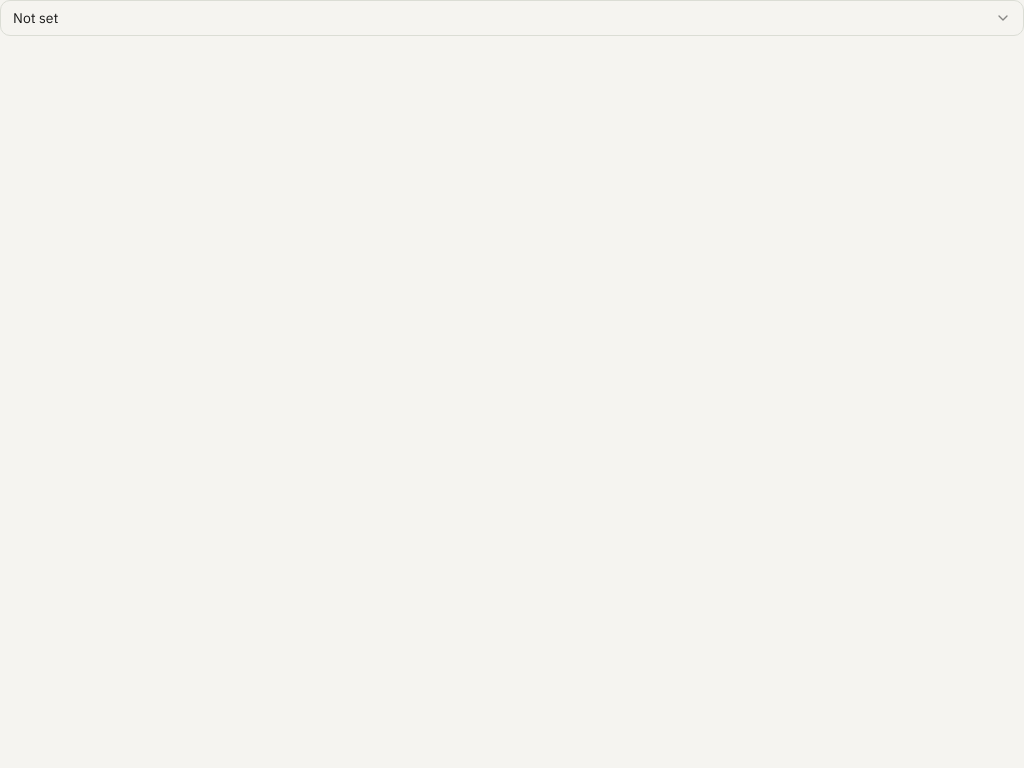
it: UomSelect inline UOM creation › keeps the form open with a visible error when creation fails
The width and height of the screenshot is (1024, 768).
Press ArrowDown in the dropdown, box [0,0,1023,36]
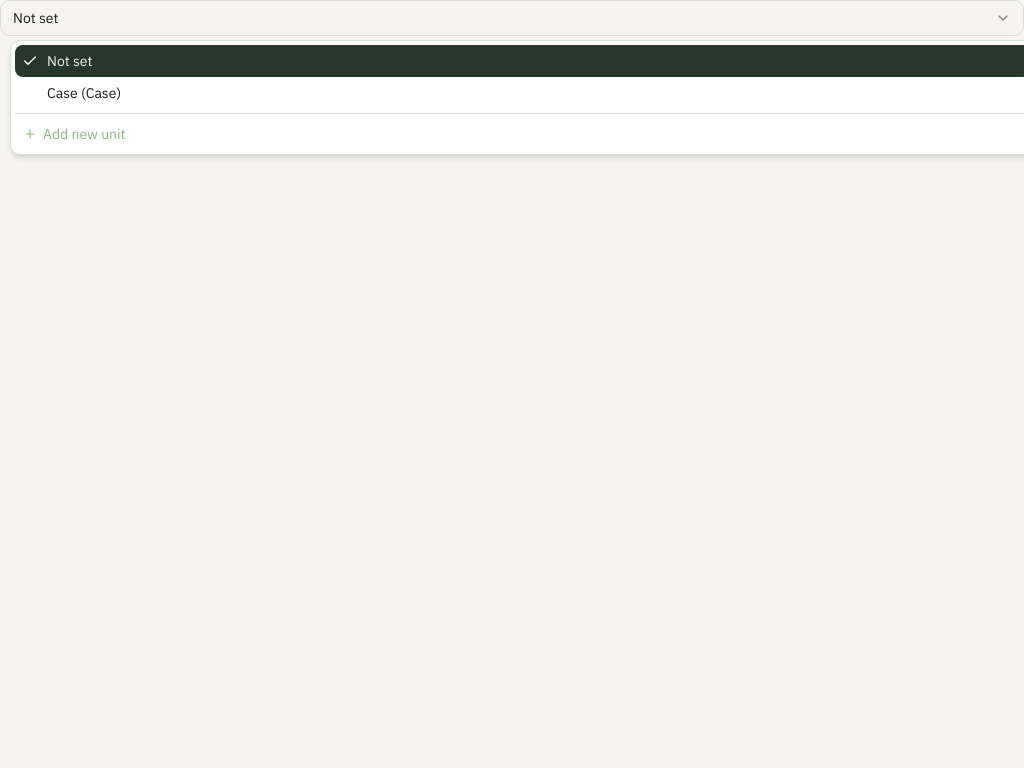
Click the button with test id "uom-add-new-purchase" at (84, 134), box [15,118,1023,150]
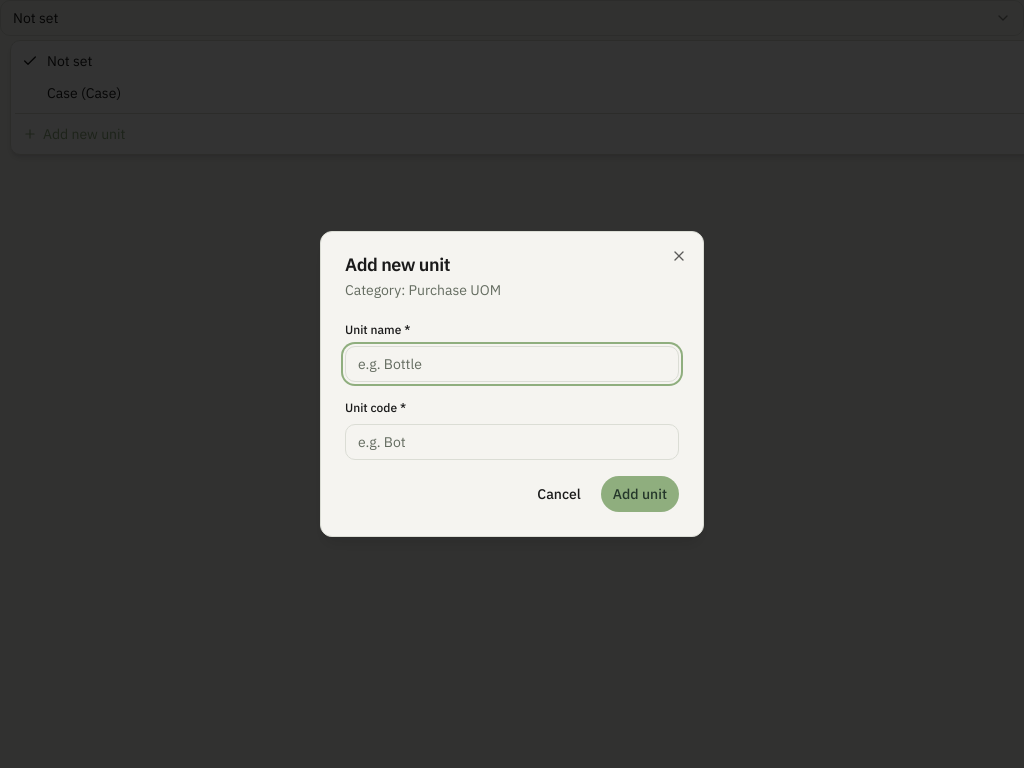
Type "Kilogram" into the field labelled "Unit name *" at (512, 364), box [345,346,679,382]
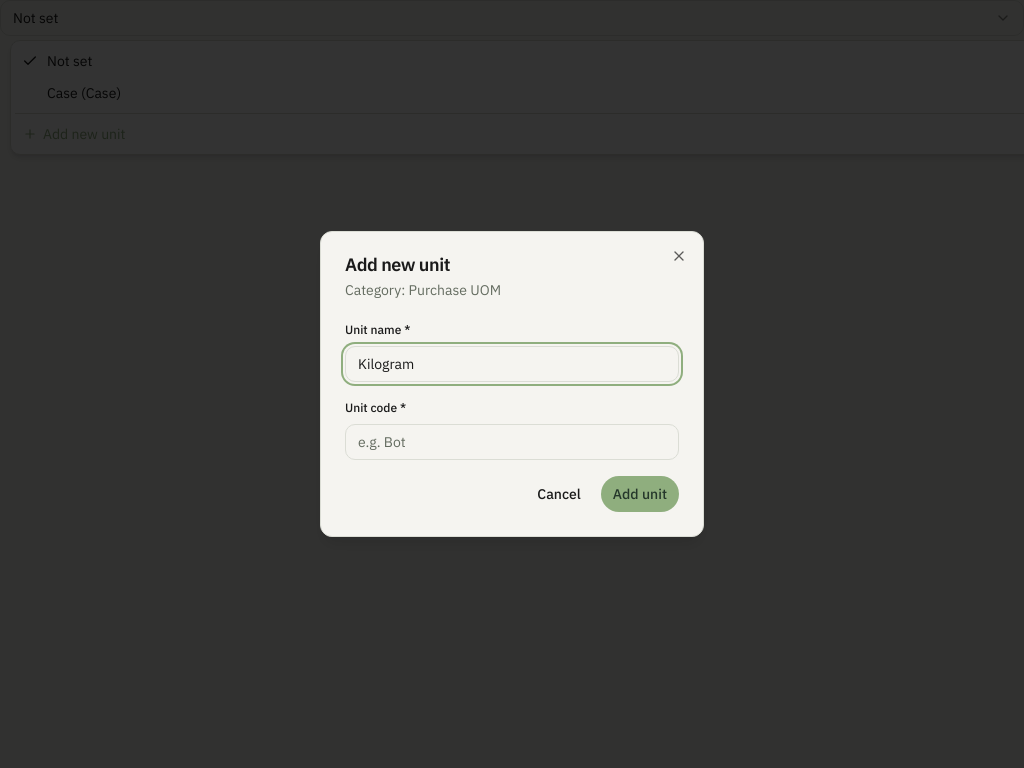
Type "KG" into the field labelled "Unit code *" at (512, 442), box [345,424,679,460]
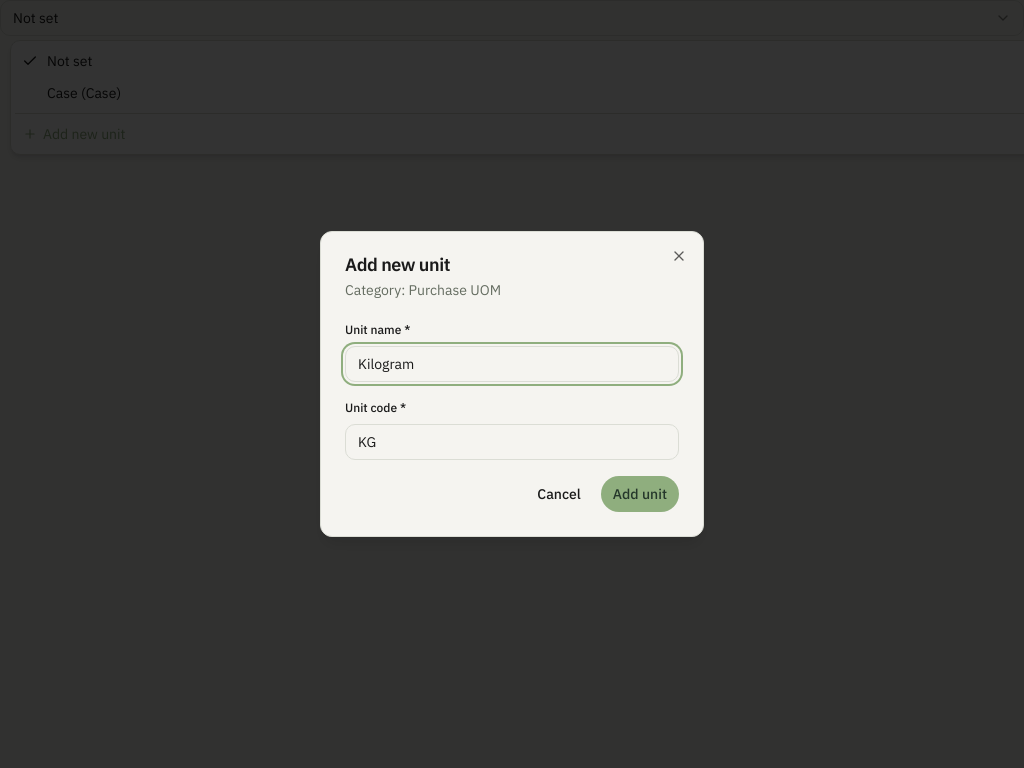
Click the button "Add unit" at (640, 494), box [601,476,679,512]
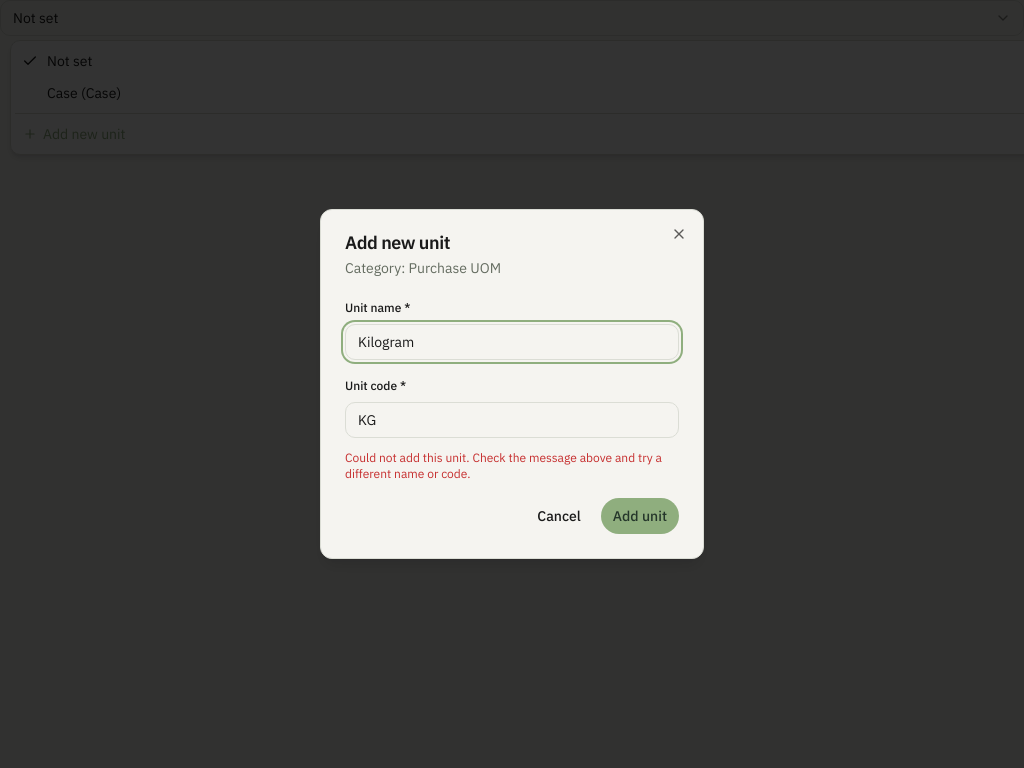
Now the text with test id "uom-add-error-purchase" is shown, box [345,450,679,482]
